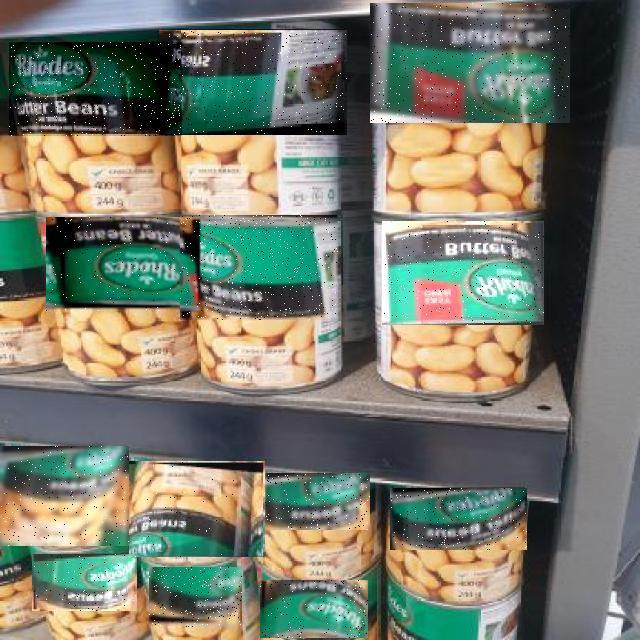Beans: (370, 3, 570, 123), (159, 30, 347, 135), (382, 221, 544, 325), (180, 215, 338, 320), (9, 42, 182, 136), (46, 218, 200, 312), (129, 461, 265, 557), (0, 446, 129, 546), (390, 488, 527, 550), (253, 473, 371, 530), (260, 580, 368, 638), (32, 554, 137, 611), (149, 568, 242, 628)
